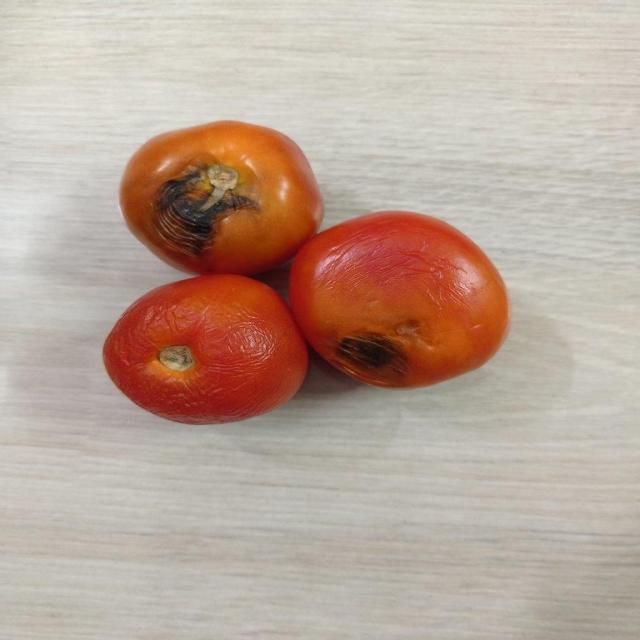Rotten: (288, 213, 513, 387), (117, 118, 319, 271)
overripe: (104, 272, 314, 429)
